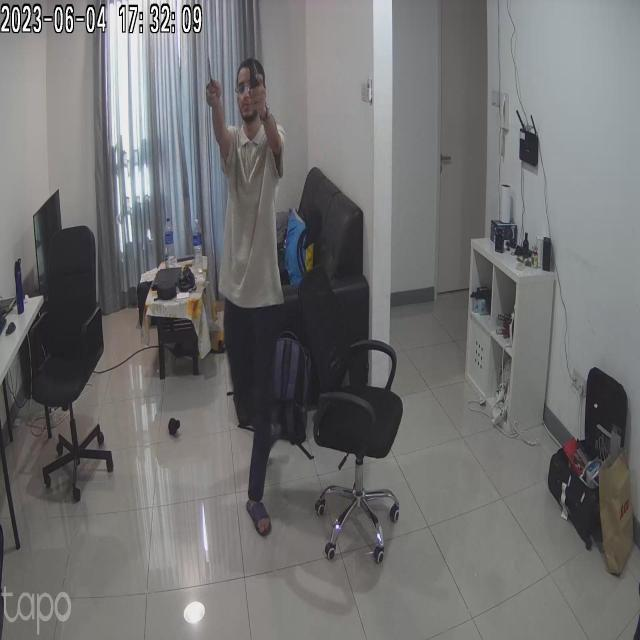Gun: (247, 69, 275, 109)
Knife: (196, 47, 232, 101)
